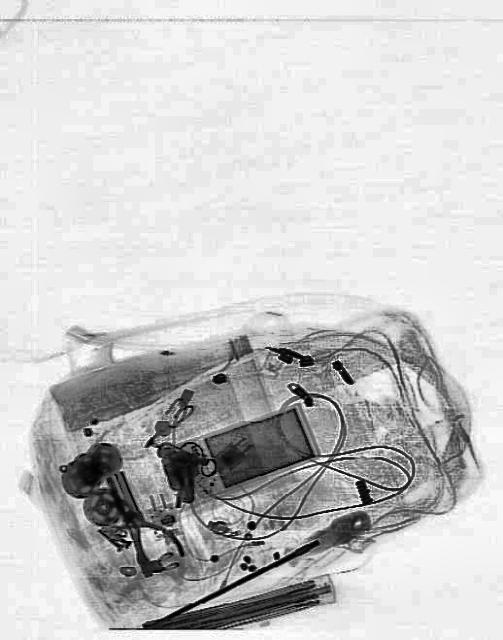Pliers: (96, 480, 186, 586)
